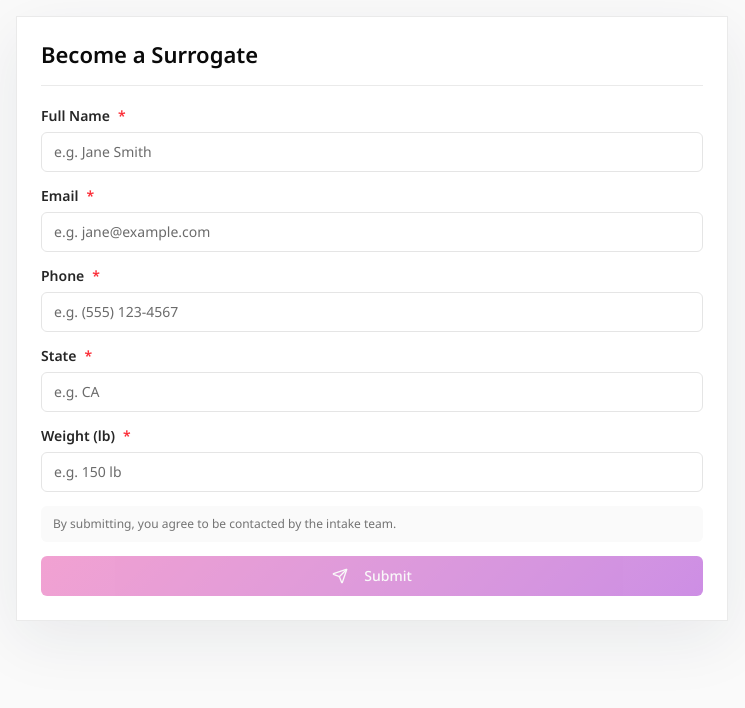
EmbedFormPageClient › blocks invalid public contact values before submitting the embedded form
The width and height of the screenshot is (745, 708).
Expected: the heading "Become a Surrogate" is shown, top-left (41, 39), bottom-right (258, 69)
Type "Embed Lead" into the field labelled "Full Name *" at (372, 152), box top-left (41, 132), bottom-right (703, 172)
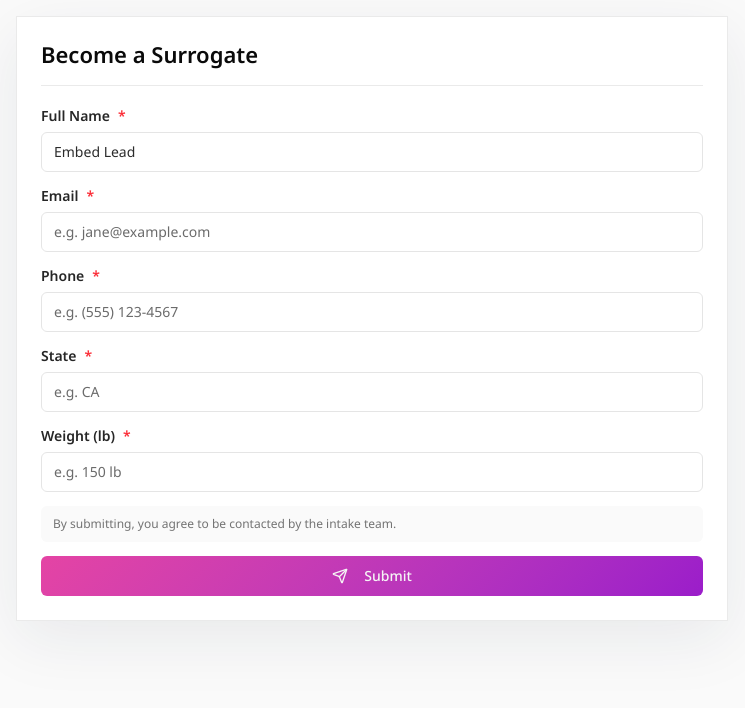
Type "embed@example.com" into the field labelled "Email *" at (372, 232), box top-left (41, 212), bottom-right (703, 252)
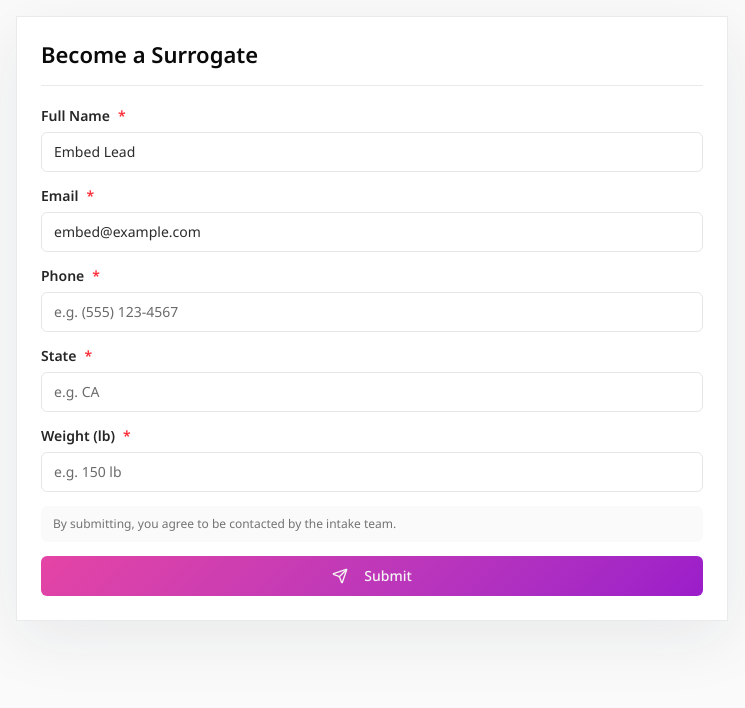
Type "123" into the field labelled "Phone *" at (372, 312), box top-left (41, 292), bottom-right (703, 332)
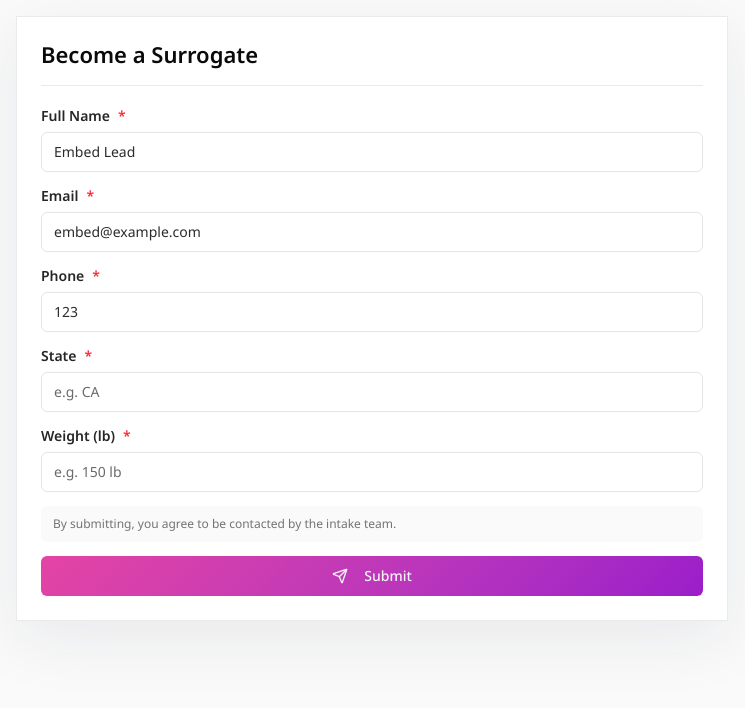
Type "CA" into the field labelled "State *" at (372, 392), box top-left (41, 372), bottom-right (703, 412)
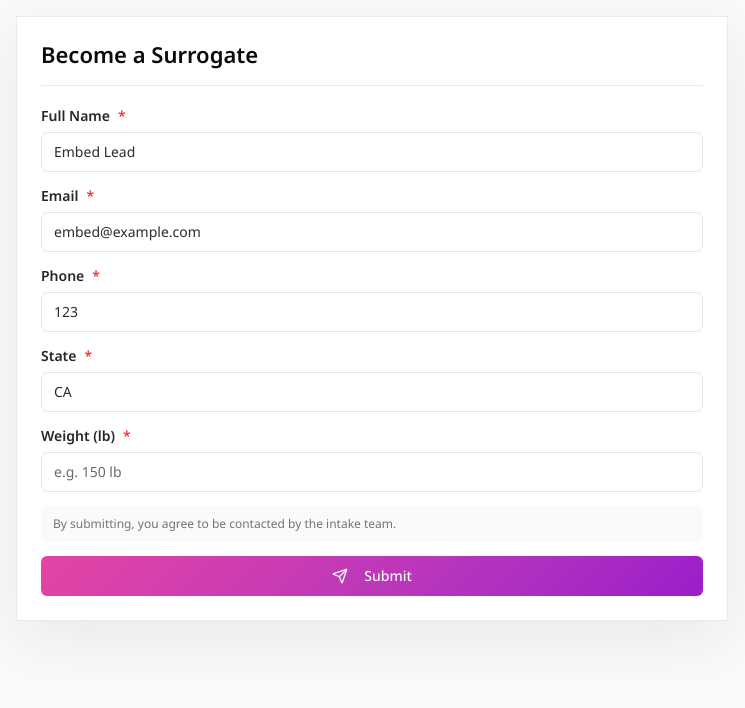
Type "150" into the number field labelled "Weight (lb) *" at (372, 472), box top-left (41, 452), bottom-right (703, 492)
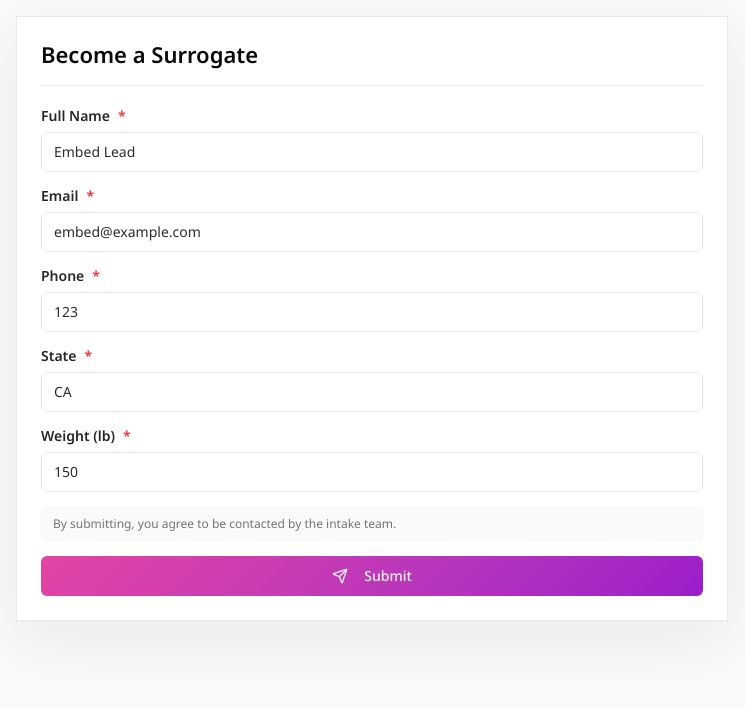
Click the button "Submit" at (372, 576), box top-left (41, 556), bottom-right (703, 596)
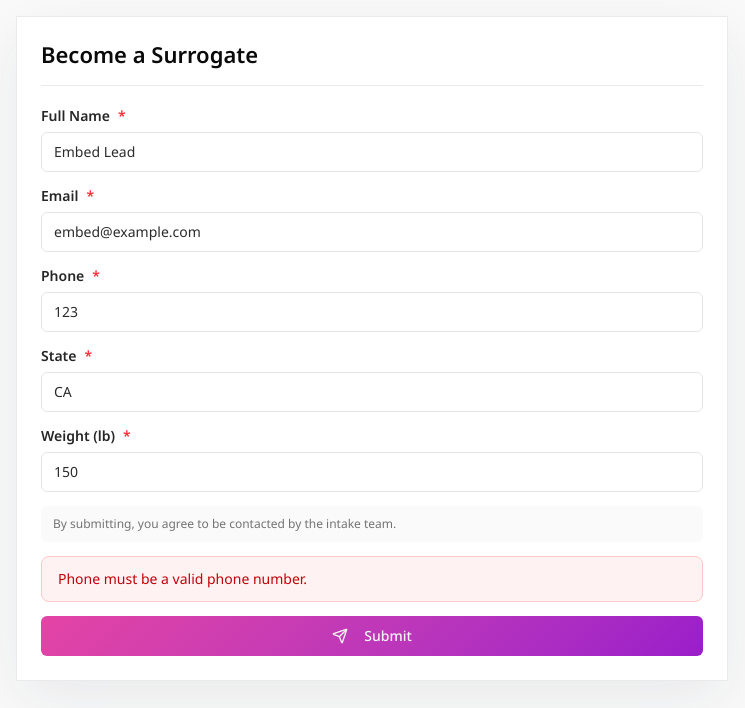
Result: the text "Phone must be a valid phone number." is shown at top-left (41, 556), bottom-right (703, 602)
